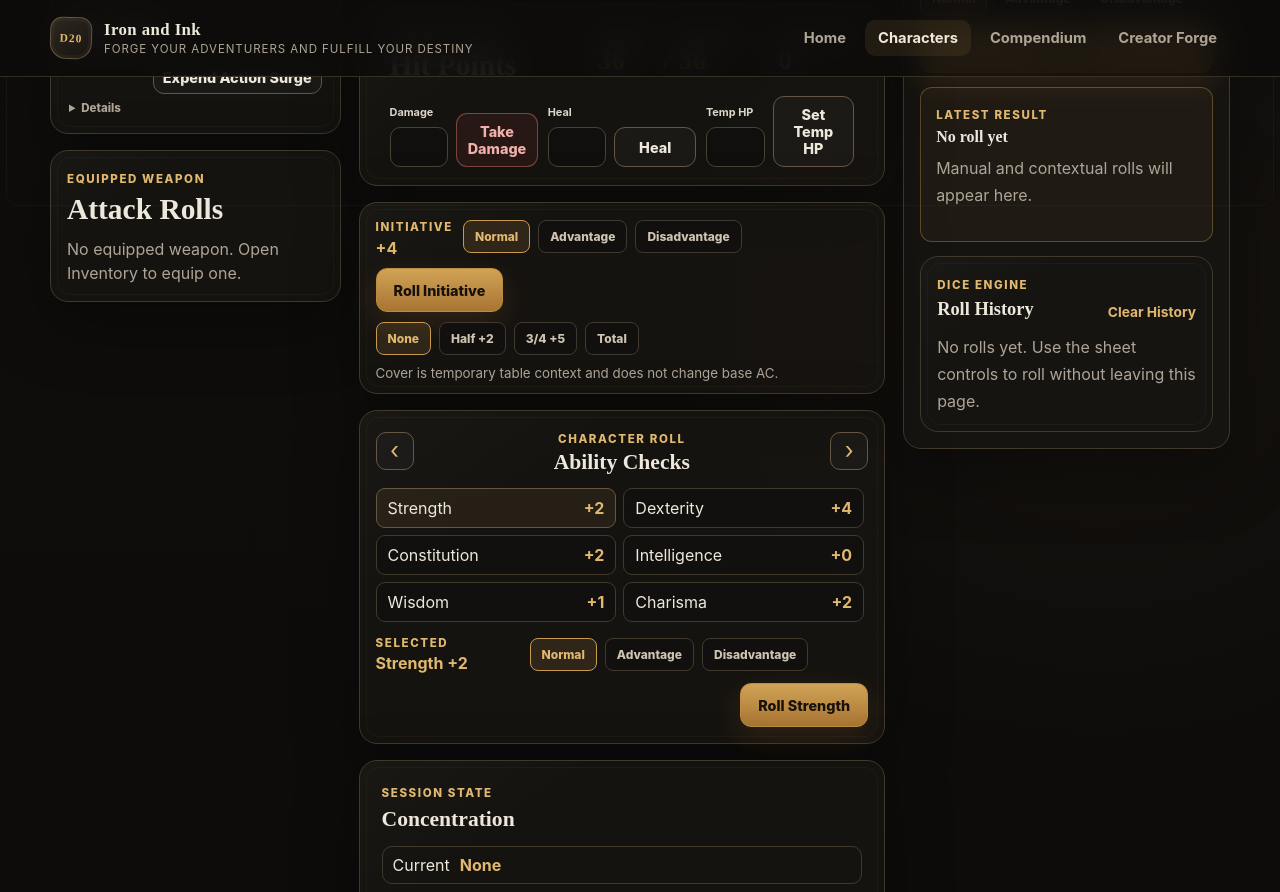
Test: PLAY UI stabilization checkpoint › D/E/F renders all authoritative ability, skill, and save modifiers without recalculating them in PLAY
This screenshot has width=1280, height=892.
(page scrolled)
Click the button named "Next Character Roll category": (849, 451) [830,432,868,470]
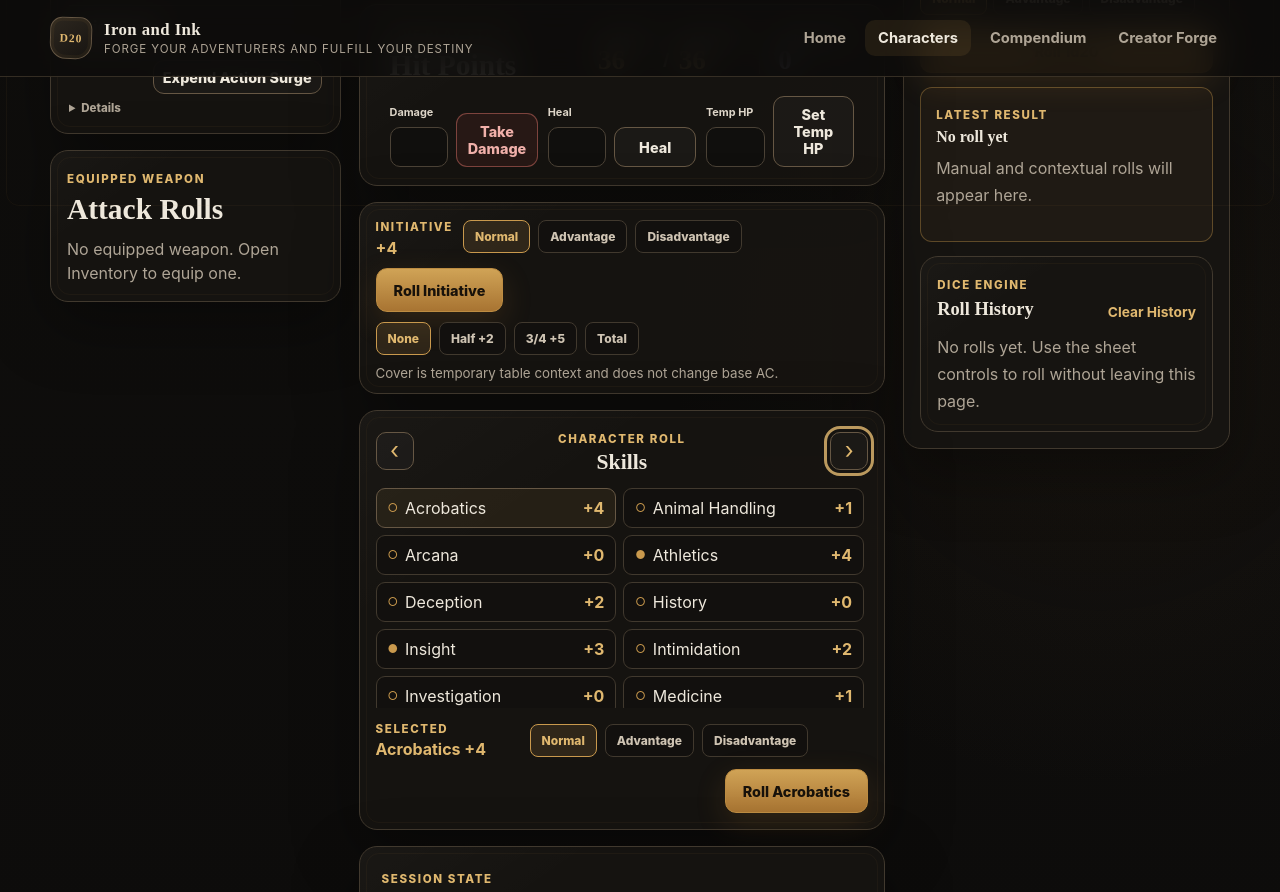
expect the button "● Athletics +4" is shown: met, box [623,535,864,575]
Click the button named "Next Character Roll category": (849, 451) [830,432,868,470]
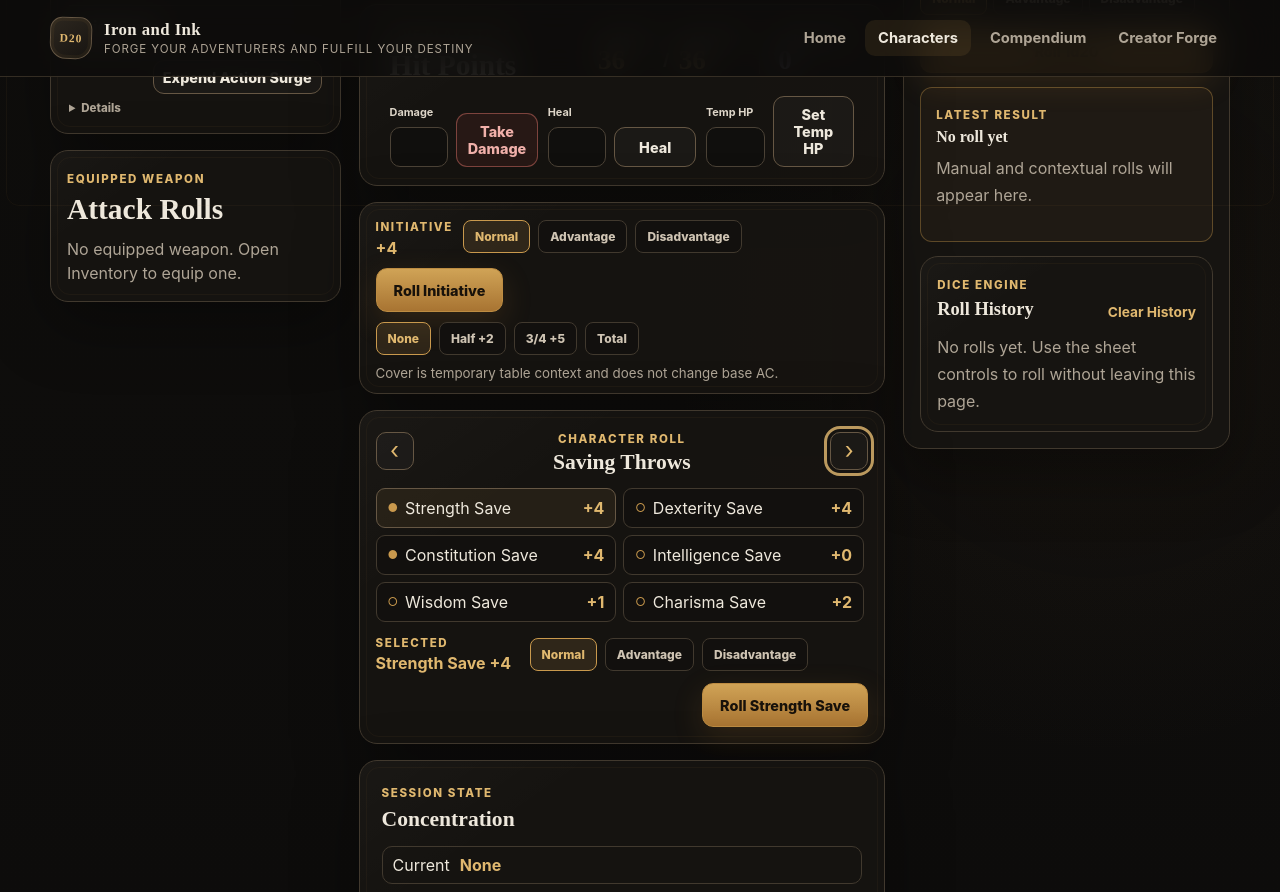
expect the button "● Strength Save +4" is shown: met, box [376,488,616,528]
expect the button "● Constitution Save +4" is shown: met, box [376,535,616,575]
expect the button "○ Dexterity Save +4" is shown: met, box [623,488,864,528]
